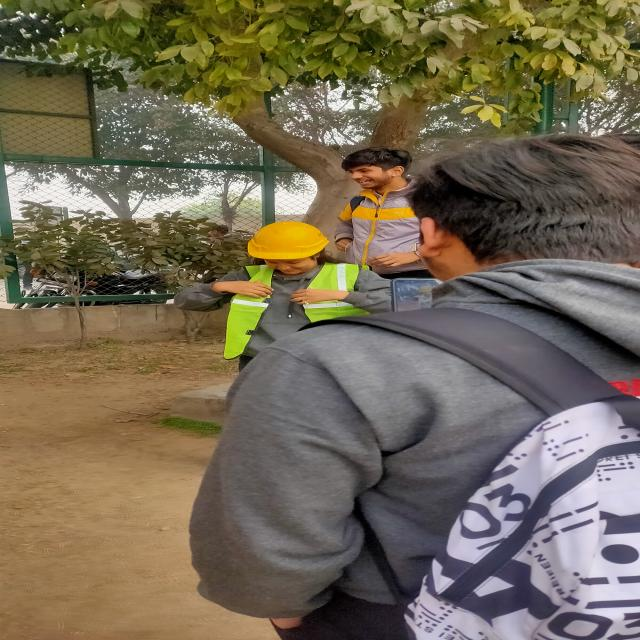safe: (182, 220, 390, 318)
unsafe: (341, 146, 434, 274)
